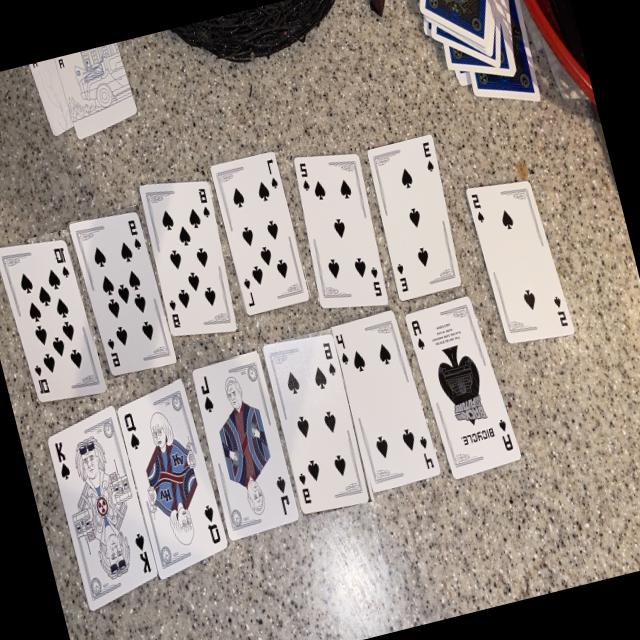10 of spades: (0, 236, 105, 400)
2 of spades: (465, 177, 574, 342)
3 of spades: (367, 133, 461, 299), (367, 133, 460, 299)
4 of spades: (329, 309, 439, 490)
5 of spades: (294, 150, 388, 307)
6 of spades: (263, 328, 371, 516), (262, 332, 368, 512)
7 of spades: (210, 149, 309, 314)
8 of spades: (140, 177, 237, 334)
9 of spades: (69, 209, 176, 373)
Ace of spades: (406, 295, 521, 478)
Jack of spades: (192, 350, 298, 539)
King of spades: (48, 404, 158, 609)
Queen of spades: (118, 378, 227, 577)
